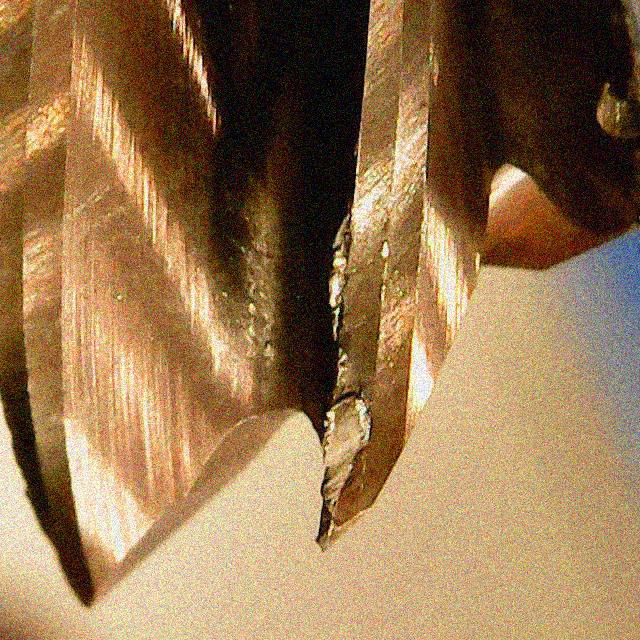Tool-wear-class-2: (298, 262, 446, 554)
